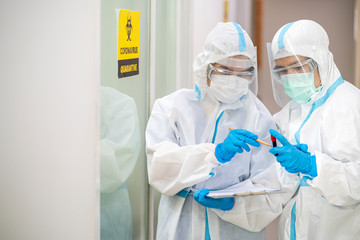Coverall: (141, 20, 270, 238), (259, 20, 359, 239)
Face_Shield: (267, 41, 331, 110), (199, 48, 259, 109)
Gloves: (270, 129, 318, 177), (214, 128, 261, 164), (192, 189, 235, 212)
Goggles: (273, 59, 317, 83), (208, 64, 256, 84)
with_mask: (210, 64, 251, 104), (279, 73, 317, 103)
